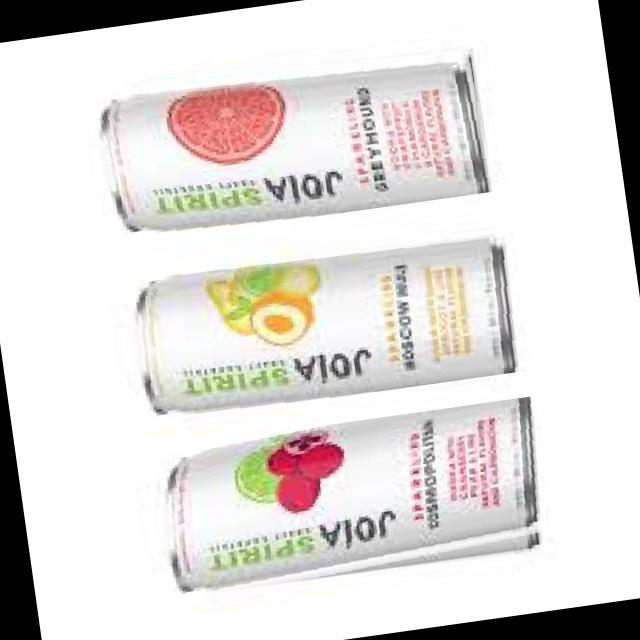Cans: (106, 207, 527, 426), (87, 27, 496, 245), (138, 395, 552, 608)
